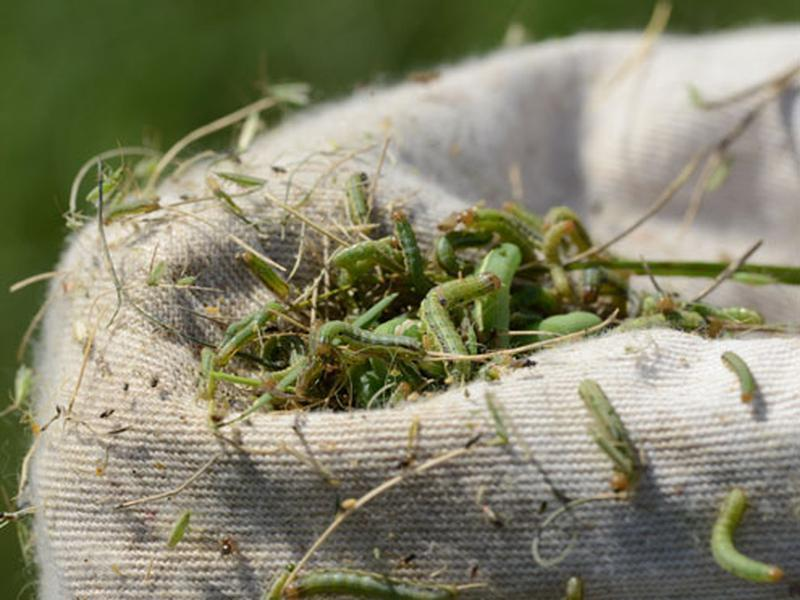Armyworms: (230, 191, 643, 398)
